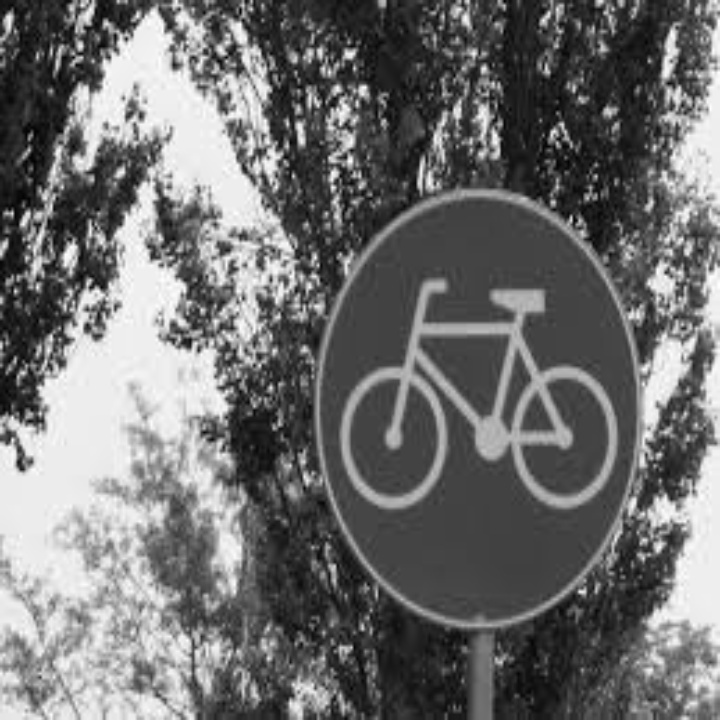bicycle: (321, 231, 643, 553)
